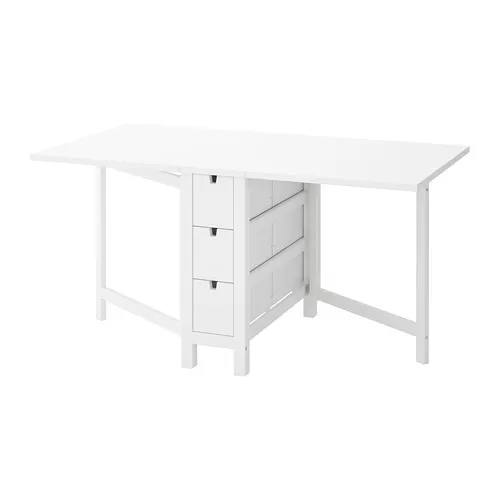Table: (29, 121, 471, 376)
